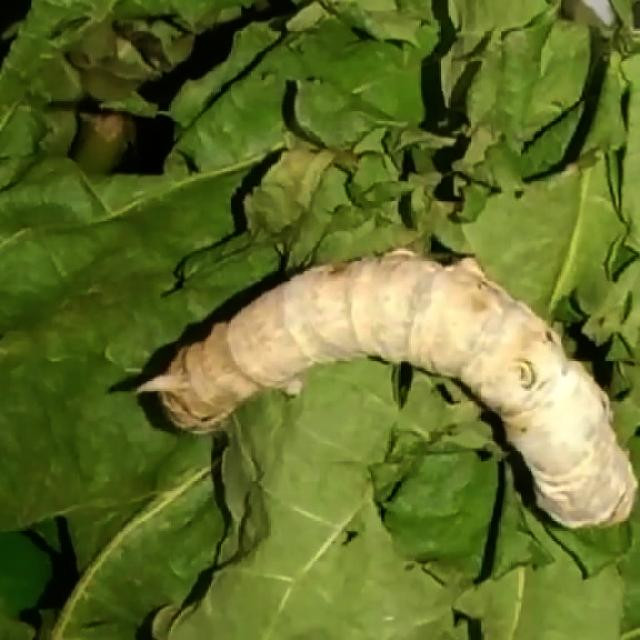Grasserie: (122, 238, 637, 547)
